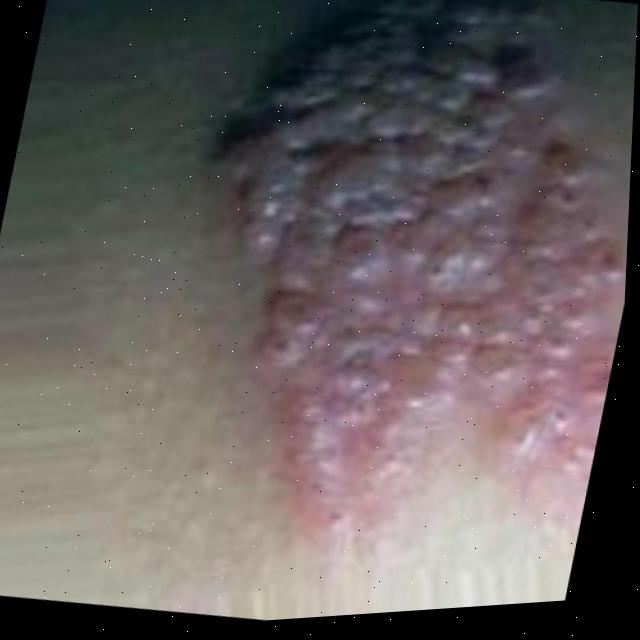Shingles: (136, 0, 640, 600)
